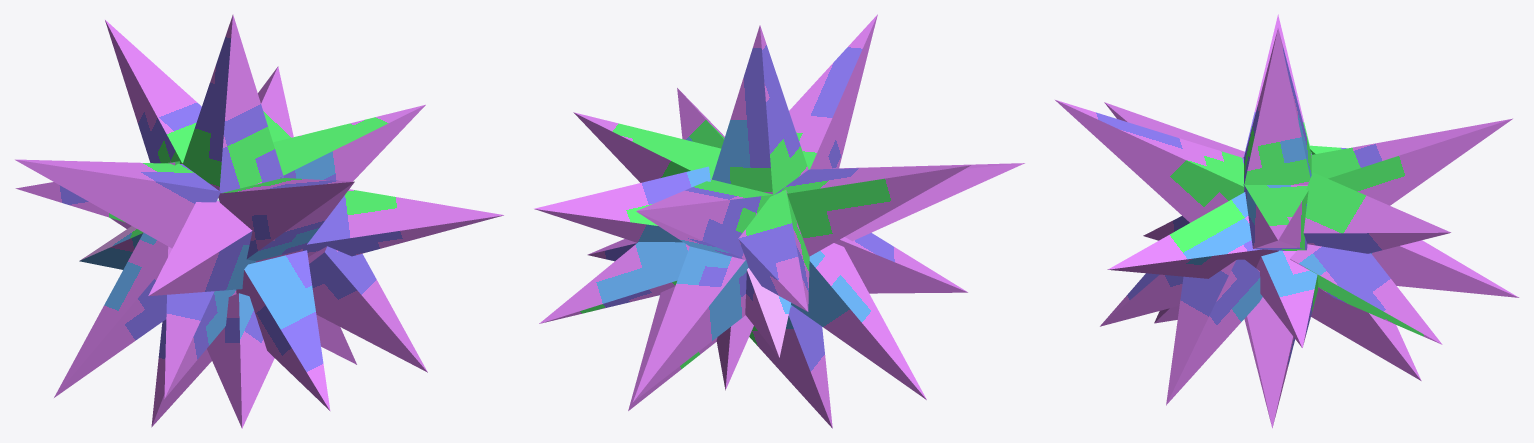
The model's file is HitFlashHS.gltf.
3 renders of one model, left to right at view 1: azimuth 30°, elevation 25°; view 2: azimuth 150°, elevation 25°; view 3: azimuth 270°, elevation 25°, orthographic. The views are drawn at different scales.
Visible parts, largest first — view 1: Flash; view 2: Flash; view 3: Flash.
Boxes of the visible parts, left/top/right/bottom form: Flash: left=15, top=14, right=503, bottom=428; Flash: left=534, top=14, right=1024, bottom=428; Flash: left=1055, top=14, right=1519, bottom=428.
Size of the model in its own units: 1.19 by 1.09 by 1.27.
Materials: 1 (1 with a texture image).
